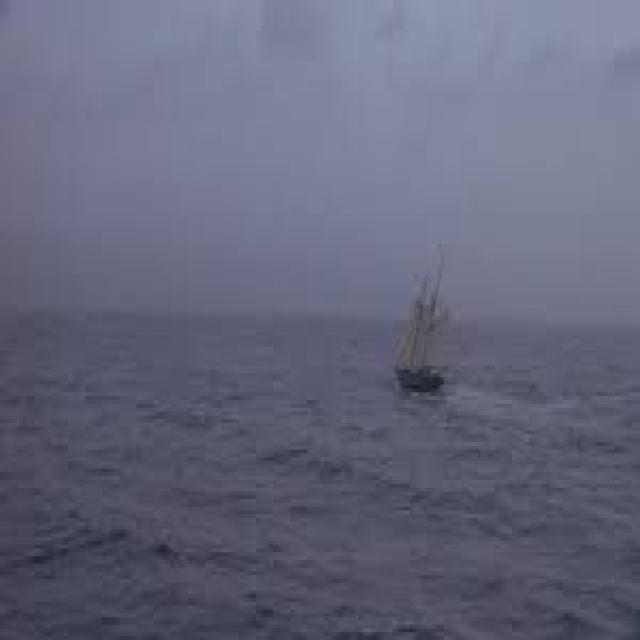fishing boat: (388, 264, 456, 399)
